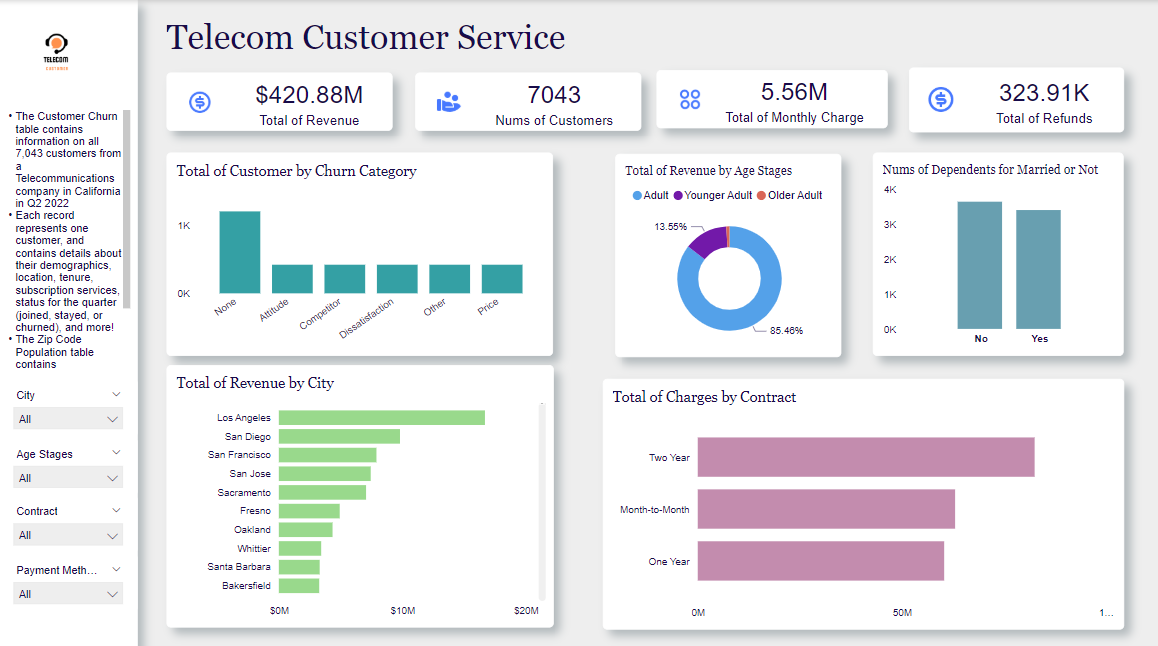

Layout of this report page (visuals, bound fields, positions):
{"tool":"powerbi","page":{"name":"Telecom Customer Services Analysis 1","canvas":[1280,720],"ordinal":0},"visuals":[{"type":"shape","box":[0,0,152,720],"z":0,"group":"g5"},{"type":"shape","box":[998.1,74,235.7,71],"z":0,"group":"g6"},{"type":"shape","box":[721.1,76.9,253.7,64],"z":0,"group":"g3"},{"type":"shape","box":[184,80,248,64],"z":0,"group":"g4"},{"type":"shape","box":[456,80,248,64],"z":0,"group":"g2"},{"type":"clusteredBarChart","fields":{"Y":["Telecom Customer Churn Facts.Total of Charges"],"Category":["Telecom Customer Contract & Payment.Contract"]},"box":[662.2,415.4,571.7,275.6],"z":0},{"type":"slicer","fields":{"Values":["Telecom Customer Location.City"]},"box":[0,416,152,64],"z":0,"group":"g1"},{"type":"card","title":"Sales","fields":{"Values":["Telecom Customer Churn Facts.Total of Refunds"]},"box":[1066.5,74,159.6,71],"z":1000,"group":"g6"},{"type":"card","title":"Sales","fields":{"Values":["Telecom Customer Churn Facts.Total of Monthly Charge"]},"box":[787.5,76.8,171.2,63.9],"z":1000,"group":"g3"},{"type":"card","title":"Sales","fields":{"Values":["Telecom Customer Churn Facts.Total of Revenue"]},"box":[256,80,168,64],"z":1000,"group":"g4"},{"type":"card","title":"Sales","fields":{"Values":["Telecom Customer Churn Facts.Nums of Customers"]},"box":[520,80,176,64],"z":1000,"group":"g2"},{"type":"textbox","box":[0,120.7,144,287.9],"z":1000,"group":"g5"},{"type":"columnChart","title":"Total of Customer by Churn Category","fields":{"Category":["Telecom Customer Status & Churn.Churn Category"],"Y":["Telecom Customer Churn Facts.Nums of Customers"]},"box":[183.7,167.3,423.7,223.5],"z":1000},{"type":"slicer","fields":{"Values":["Telecom Customer Information.Age Stages"]},"box":[0,480,152,64],"z":1000,"group":"g1"},{"type":"image","box":[1005.7,82.9,53.2,53.2],"z":2000,"group":"g6"},{"type":"image","box":[729.3,84.9,57.3,48],"z":2000,"group":"g3"},{"type":"image","box":[192,88,56,48],"z":2000,"group":"g4"},{"type":"image","box":[464,88,56,48],"z":2000,"group":"g2"},{"type":"donutChart","title":"Total of Revenue by Age Stages","fields":{"Category":["Telecom Customer Information.Age Stages"],"Y":["Telecom Customer Churn Facts.Total of Revenue"]},"box":[675.9,168.6,248.2,223.5],"z":2000},{"type":"group","id":"g1","title":"Slicers","box":[0,416,152,257],"z":2000,"group":"g5"},{"type":"slicer","fields":{"Values":["Telecom Customer Contract & Payment.Contract"]},"box":[0,544,152,64],"z":2000,"group":"g1"},{"type":"columnChart","title":"Nums  of Dependents  for Married or Not","fields":{"Category":["Telecom Customer Information.Married"],"Y":["Telecom Customer Information.Nums of Dependents"]},"box":[958.4,167.3,275.6,223.5],"z":3000},{"type":"slicer","fields":{"Values":["Telecom Customer Contract & Payment.Payment Method"]},"box":[0,608,152,64],"z":3000,"group":"g1"},{"type":"group","id":"g2","title":"Header 4","box":[456,80,240,64],"z":4000},{"type":"group","id":"g3","title":"Header 3","box":[183.7,76.8,791.1,611.5],"z":5000},{"type":"group","id":"g4","title":"Header 1","box":[184,80,248,64],"z":6000},{"type":"group","id":"g5","title":"Side Bar","box":[0,0,152,720],"z":7000},{"type":"textbox","box":[183.7,19.2,492.2,57.6],"z":9000},{"type":"actionButton","box":[1018.7,189.2,261.9,75.4],"z":10000},{"type":"group","id":"g6","title":"Header 1","box":[998.1,74,235.8,69.9],"z":12000},{"type":"image","box":[0,0,131.6,112.4],"z":12001,"group":"g5"},{"type":"clusteredBarChart","fields":{"Category":["Telecom Customer Location.City"],"Y":["Telecom Customer Churn Facts.Total of Revenue"]},"box":[183.7,400.5,425,287.8],"z":13001,"group":"g3"}]}

Visuals, with their boxes on the page's 1280x720 design canvas (x1, y1, x2, y2). These are canvas units, not pixel positions in the 1158x646 screenshot, which may show the page scaled, cropped or inside an application window:
shape: l=0, t=0, r=152, b=720
shape: l=998, t=74, r=1234, b=145
shape: l=721, t=77, r=975, b=141
shape: l=184, t=80, r=432, b=144
shape: l=456, t=80, r=704, b=144
clusteredBarChart - Telecom Customer Churn Facts.Total of Charges x Telecom Customer Contract & Payment.Contract: l=662, t=415, r=1234, b=691
slicer - Telecom Customer Location.City: l=0, t=416, r=152, b=480
"Sales" card: l=1066, t=74, r=1226, b=145
"Sales" card: l=788, t=77, r=959, b=141
"Sales" card: l=256, t=80, r=424, b=144
"Sales" card: l=520, t=80, r=696, b=144
textbox: l=0, t=121, r=144, b=409
"Total of Customer by Churn Category" columnChart: l=184, t=167, r=607, b=391
slicer - Telecom Customer Information.Age Stages: l=0, t=480, r=152, b=544
image: l=1006, t=83, r=1059, b=136
image: l=729, t=85, r=787, b=133
image: l=192, t=88, r=248, b=136
image: l=464, t=88, r=520, b=136
"Total of Revenue by Age Stages" donutChart: l=676, t=169, r=924, b=392
"Slicers" group: l=0, t=416, r=152, b=673
slicer - Telecom Customer Contract & Payment.Contract: l=0, t=544, r=152, b=608
"Nums  of Dependents  for Married or Not" columnChart: l=958, t=167, r=1234, b=391
slicer - Telecom Customer Contract & Payment.Payment Method: l=0, t=608, r=152, b=672
"Header 4" group: l=456, t=80, r=696, b=144
"Header 3" group: l=184, t=77, r=975, b=688
"Header 1" group: l=184, t=80, r=432, b=144
"Side Bar" group: l=0, t=0, r=152, b=720
textbox: l=184, t=19, r=676, b=77
actionButton: l=1019, t=189, r=1281, b=265
"Header 1" group: l=998, t=74, r=1234, b=144
image: l=0, t=0, r=132, b=112
clusteredBarChart - Telecom Customer Location.City x Telecom Customer Churn Facts.Total of Revenue: l=184, t=400, r=609, b=688
